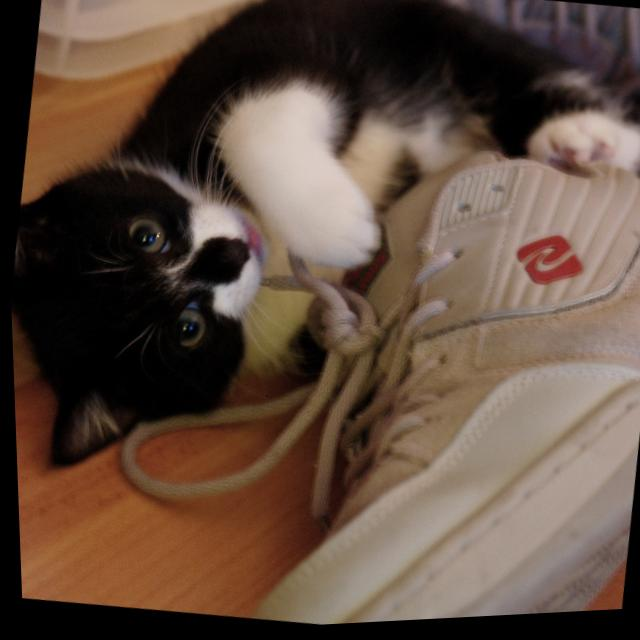animals: (6, 195, 253, 490)
